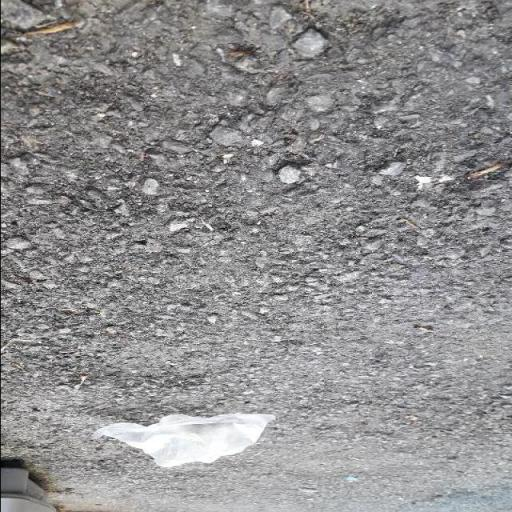plastic-bag: (90, 411, 274, 469)
